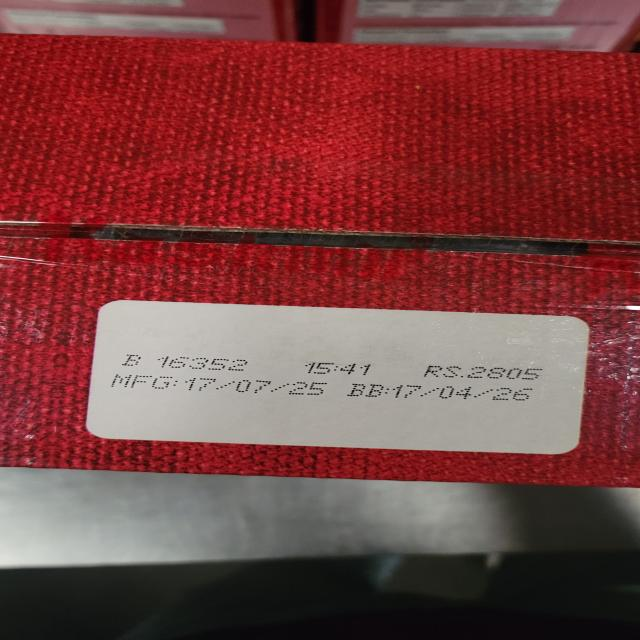BB: (345, 384, 534, 401)
Batch: (120, 355, 252, 371)
MFG: (113, 376, 323, 396)
RS: (424, 365, 547, 380)
TimeStamp: (302, 362, 374, 375)
